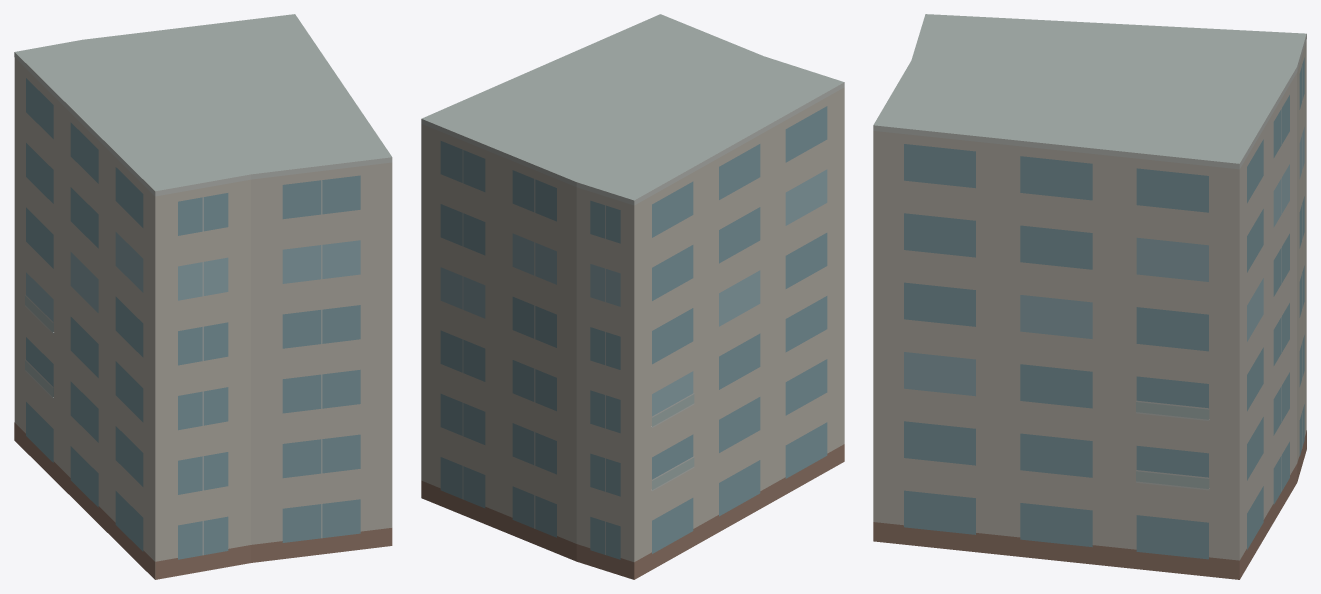
The model's file is survey-upis-32952429.glb.
3 renders of one model, left to right at view 1: azimuth 30°, elevation 25°; view 2: azimuth 150°, elevation 25°; view 3: azimuth 270°, elevation 25°, orthographic. The views are drawn at different scales.
Parts seen in each view (by area): view 1: survey-upis-32952429.tmp; view 2: survey-upis-32952429.tmp; view 3: survey-upis-32952429.tmp.
Part boxes in pixels (bbox=[...]): survey-upis-32952429.tmp: bbox=[14, 14, 392, 579]; survey-upis-32952429.tmp: bbox=[421, 14, 844, 579]; survey-upis-32952429.tmp: bbox=[873, 14, 1306, 579].
Bounding box in the file's own units: 14.14 × 18.3 × 17.29.
